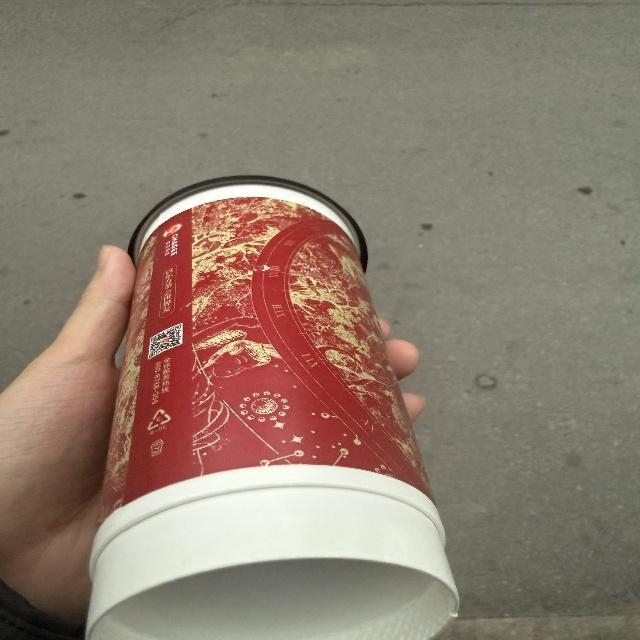paper_cup: (85, 169, 464, 640)
